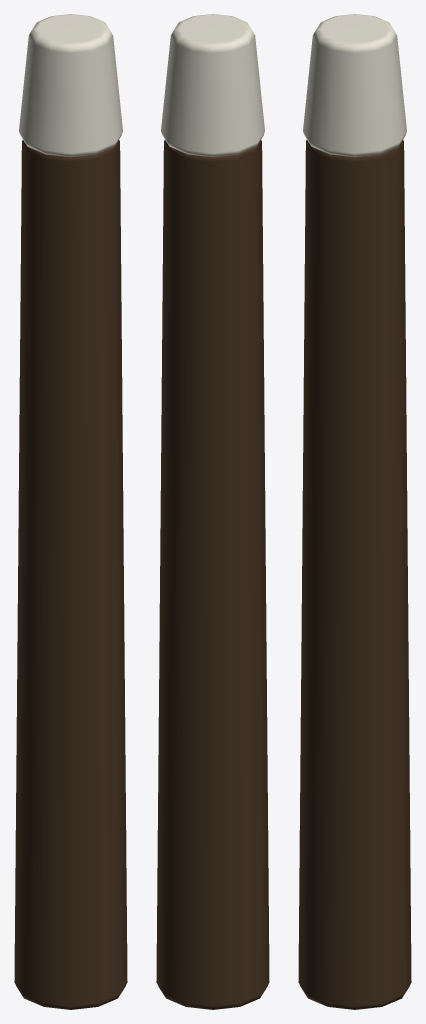
File: meerpaal.glb
The picture shows the model from 3 angles, left to right: view 1: azimuth 90°, elevation 25°; view 2: azimuth 150°, elevation 25°; view 3: azimuth 270°, elevation 25°; orthographic projection.
Visible parts, largest first — view 1: Meerpaal; view 2: Meerpaal; view 3: Meerpaal.
Part boxes in pixels (<box>): Meerpaal: <box>14,14,127,1009</box>; Meerpaal: <box>156,14,269,1009</box>; Meerpaal: <box>298,14,411,1009</box>.
Bounding box in the file's own units: 0.2997 × 2.81 × 0.2997.
